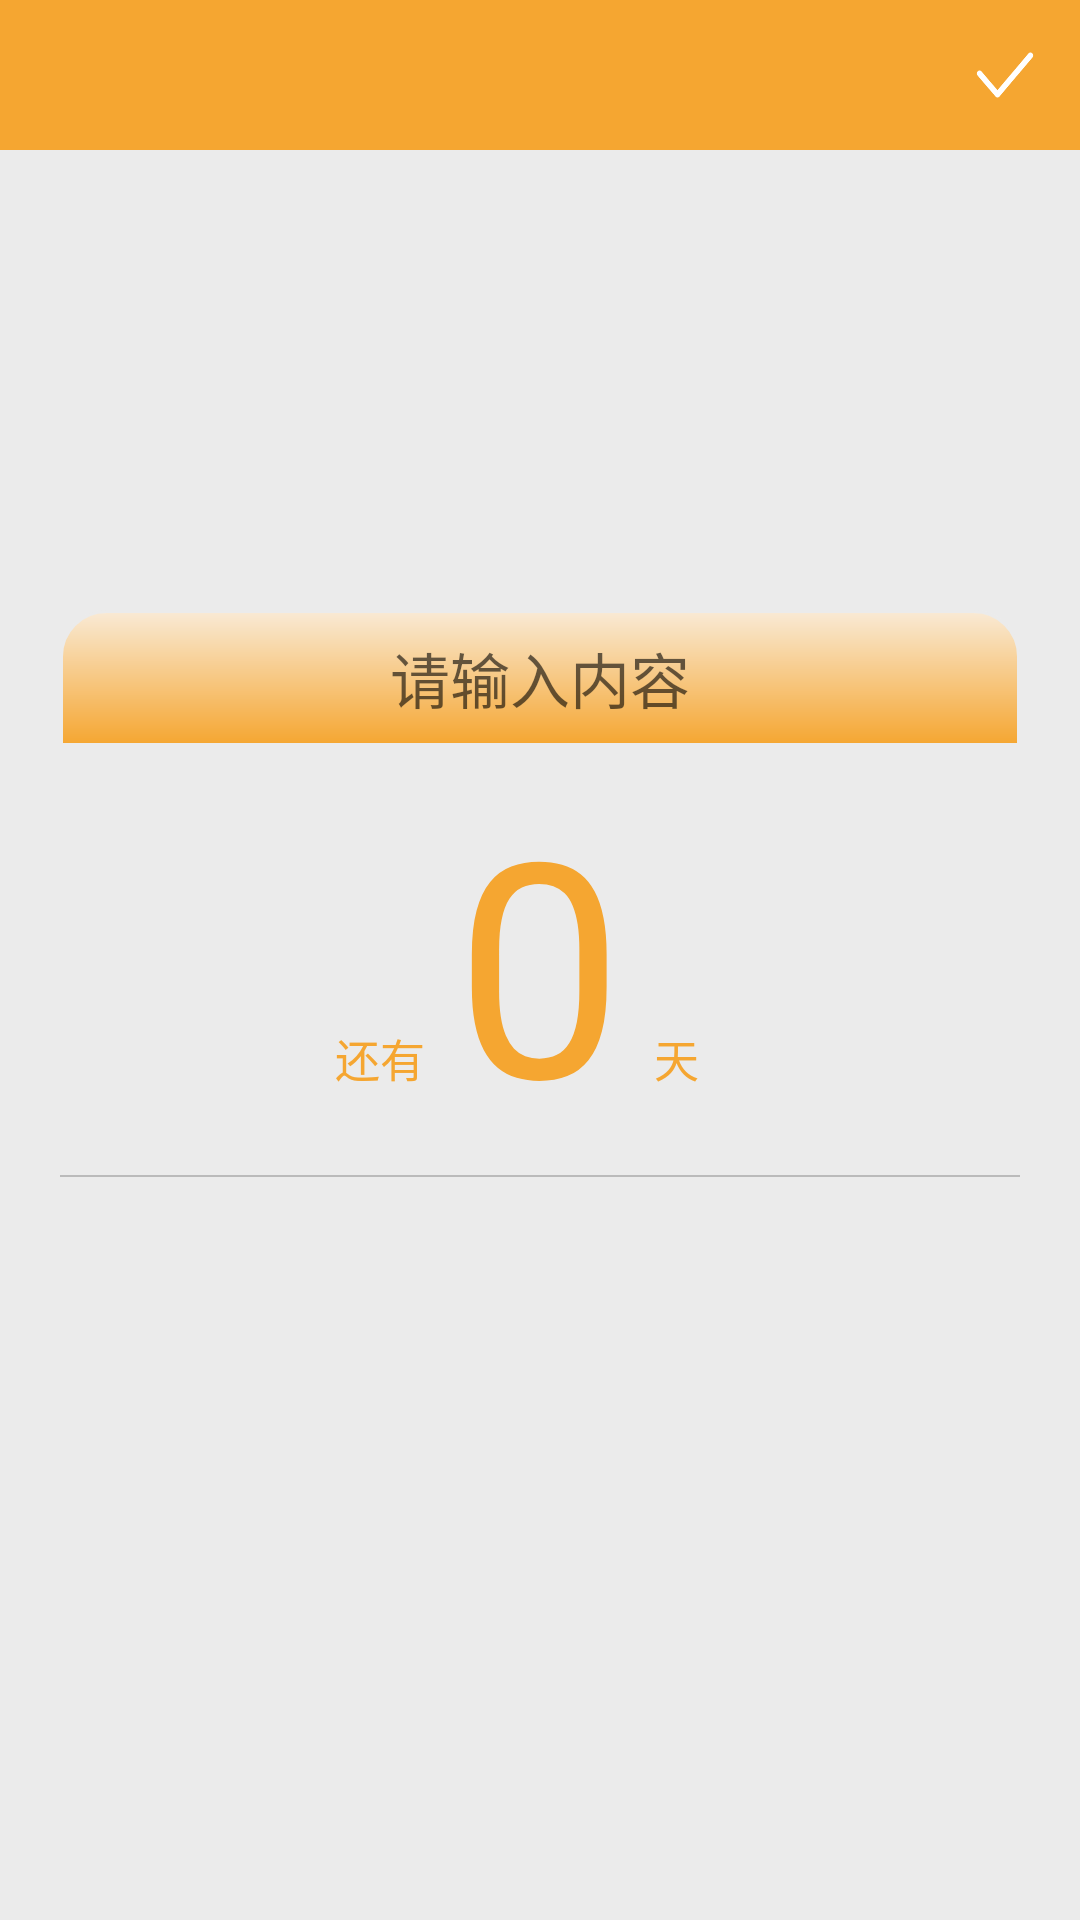

Icon click points for this 1080 x 1920 phone screenshot, format (x=x, y=y):
save: (x=1005, y=75)
